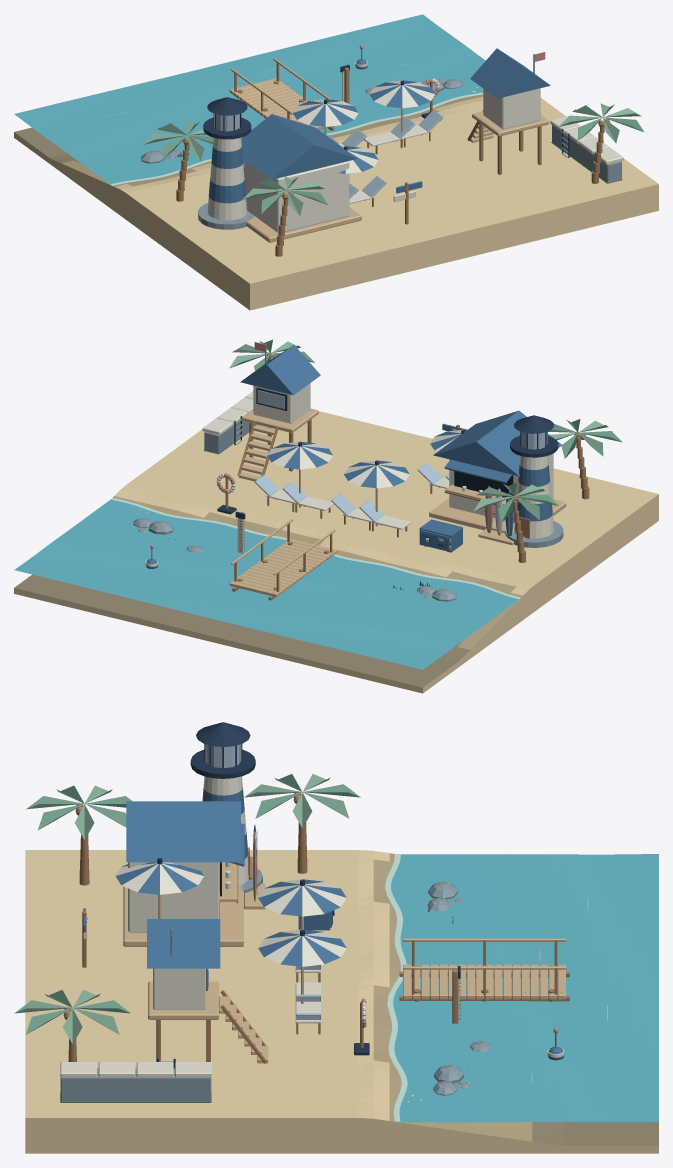
File: beach_high_tide.glb
3 renders of one model, top to bottom at view 1: azimuth 30°, elevation 25°; view 2: azimuth 150°, elevation 25°; view 3: azimuth 270°, elevation 25°, orthographic. The views are drawn at different scales.
Visible parts, largest first — view 1: tidal_sand_sand, tidal_water_surface, tidal_terrain_skirt, beach_kiosk_gable_roof, beach_kiosk_body, lighthouse_tower_band (×4), lifeguard_tower_gable_roof, lifeguard_tower_cabin, tidal_sand_wet_sand, seawall_wall, beach_kiosk_deck, tidal_sand_seabed (+5 smaller); view 2: tidal_water_surface, tidal_sand_sand, tidal_sand_seabed, tidal_terrain_skirt, beach_kiosk_gable_roof, tidal_sand_wet_sand, lifeguard_tower_gable_roof, lifeguard_tower_cabin, beach_kiosk_deck, shore_foam, beach_kiosk_body, seawall_wall (+7 smaller); view 3: tidal_water_surface, tidal_sand_sand, tidal_terrain_skirt, beach_kiosk_gable_roof, tidal_sand_wet_sand, seawall_wall, lifeguard_tower_gable_roof, beach_kiosk_body, tidal_sand_seabed, lifeguard_tower_cabin, beach_kiosk_deck, shore_foam (+6 smaller).
Boxes of the visible parts, box(x1,y1,x2,y2) form: tidal_sand_sand: box(114, 96, 658, 283); tidal_water_surface: box(14, 14, 485, 184); tidal_terrain_skirt: box(14, 132, 658, 310); beach_kiosk_gable_roof: box(241, 114, 357, 179); beach_kiosk_body: box(244, 161, 349, 233); lighthouse_tower_band (×4): box(207, 145, 247, 220); lifeguard_tower_gable_roof: box(470, 48, 550, 98); lifeguard_tower_cabin: box(483, 88, 540, 129); tidal_sand_wet_sand: box(62, 94, 483, 186); seawall_wall: box(552, 125, 621, 182); beach_kiosk_deck: box(242, 207, 361, 242); tidal_sand_seabed: box(14, 127, 79, 163); tidal_water_surface: box(14, 499, 519, 669); tidal_sand_sand: box(114, 411, 658, 595); tidal_sand_seabed: box(14, 574, 469, 687); tidal_terrain_skirt: box(14, 494, 658, 693); beach_kiosk_gable_roof: box(433, 410, 561, 476); tidal_sand_wet_sand: box(113, 496, 522, 649); lifeguard_tower_gable_roof: box(240, 345, 320, 395); lifeguard_tower_cabin: box(253, 383, 310, 423); beach_kiosk_deck: box(429, 498, 566, 532); shore_foam: box(110, 498, 520, 599); beach_kiosk_body: box(449, 453, 553, 523); seawall_wall: box(204, 420, 257, 453); tidal_water_surface: box(391, 854, 658, 1122); tidal_sand_sand: box(25, 850, 389, 1120); tidal_terrain_skirt: box(25, 1118, 658, 1153); beach_kiosk_gable_roof: box(126, 801, 240, 862); tidal_sand_wet_sand: box(373, 853, 532, 1141); seawall_wall: box(60, 1068, 211, 1101); lifeguard_tower_gable_roof: box(147, 919, 220, 968); beach_kiosk_body: box(128, 862, 219, 932); tidal_sand_seabed: box(532, 1122, 658, 1145); lifeguard_tower_cabin: box(153, 968, 206, 1009); beach_kiosk_deck: box(123, 884, 243, 946); shore_foam: box(385, 854, 407, 1121).
Size of the model in its own units: 16.02 by 5.54 by 16.28.
